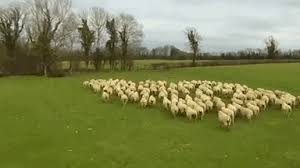sheep: (217, 111, 234, 127), (221, 106, 236, 122), (254, 98, 270, 112), (227, 103, 240, 120), (240, 107, 256, 120), (276, 90, 293, 102), (193, 106, 208, 119), (281, 102, 293, 117), (248, 104, 264, 115), (204, 99, 217, 112), (179, 103, 192, 116), (196, 100, 210, 112), (232, 100, 243, 115), (219, 88, 235, 98), (282, 95, 295, 107), (232, 96, 245, 108), (236, 84, 249, 96), (158, 98, 172, 109), (157, 86, 168, 100), (129, 91, 140, 104), (101, 89, 111, 103), (234, 91, 245, 103), (244, 92, 256, 103), (215, 101, 227, 112), (119, 94, 130, 106), (168, 95, 180, 105), (147, 95, 157, 107), (272, 96, 281, 109), (186, 109, 196, 120), (141, 88, 152, 98), (168, 89, 180, 98), (141, 96, 150, 108), (101, 80, 113, 89), (171, 103, 179, 116), (126, 82, 136, 92), (190, 79, 202, 87), (263, 90, 274, 98), (187, 100, 196, 109), (206, 89, 216, 97), (197, 85, 207, 93), (170, 82, 180, 90), (157, 81, 168, 88), (180, 86, 189, 94), (89, 83, 97, 92), (92, 78, 101, 86), (255, 89, 262, 99), (209, 80, 217, 88), (137, 85, 146, 92), (148, 80, 157, 87), (177, 81, 185, 88), (117, 87, 124, 95), (119, 80, 126, 88), (110, 77, 117, 85), (226, 82, 235, 88), (195, 89, 202, 96), (202, 79, 209, 86), (84, 81, 91, 88), (218, 81, 225, 87), (184, 80, 191, 86), (139, 81, 146, 86)
